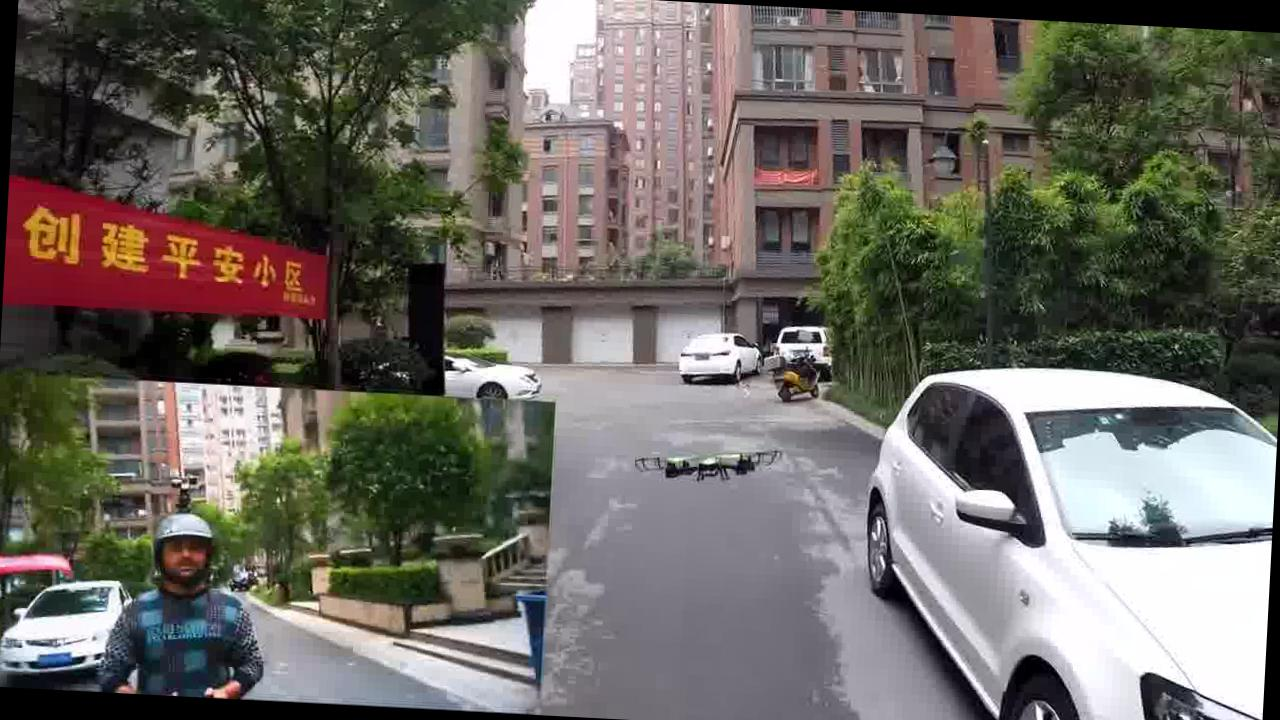drone: (618, 420, 786, 498)
